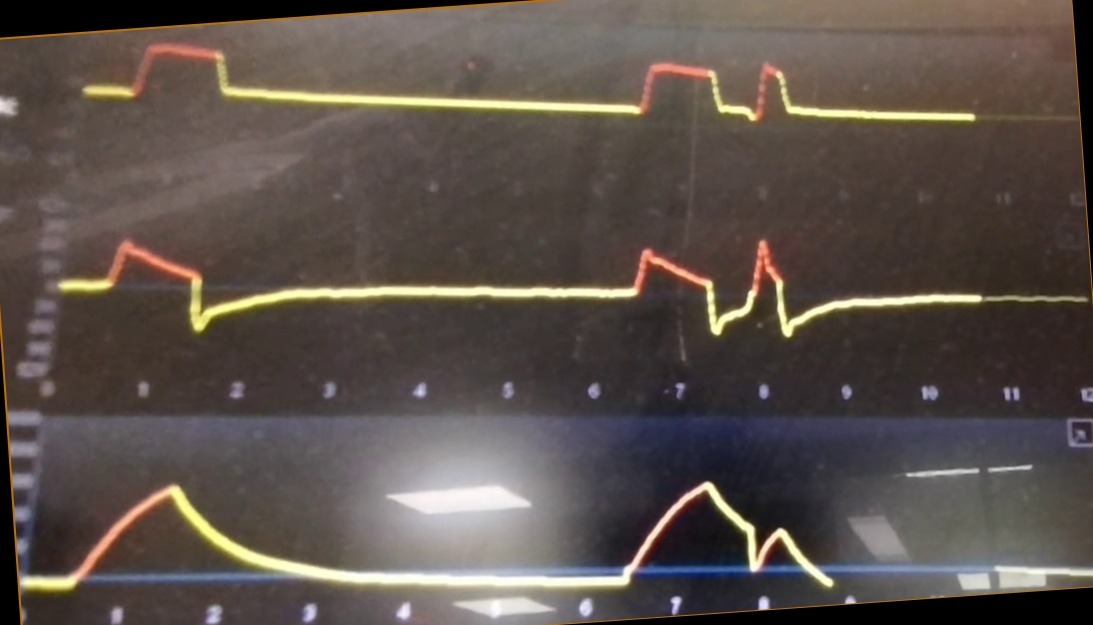Double_Triggering Flow: (65, 198, 982, 353)
Double_Triggering Volume: (27, 461, 836, 595)
